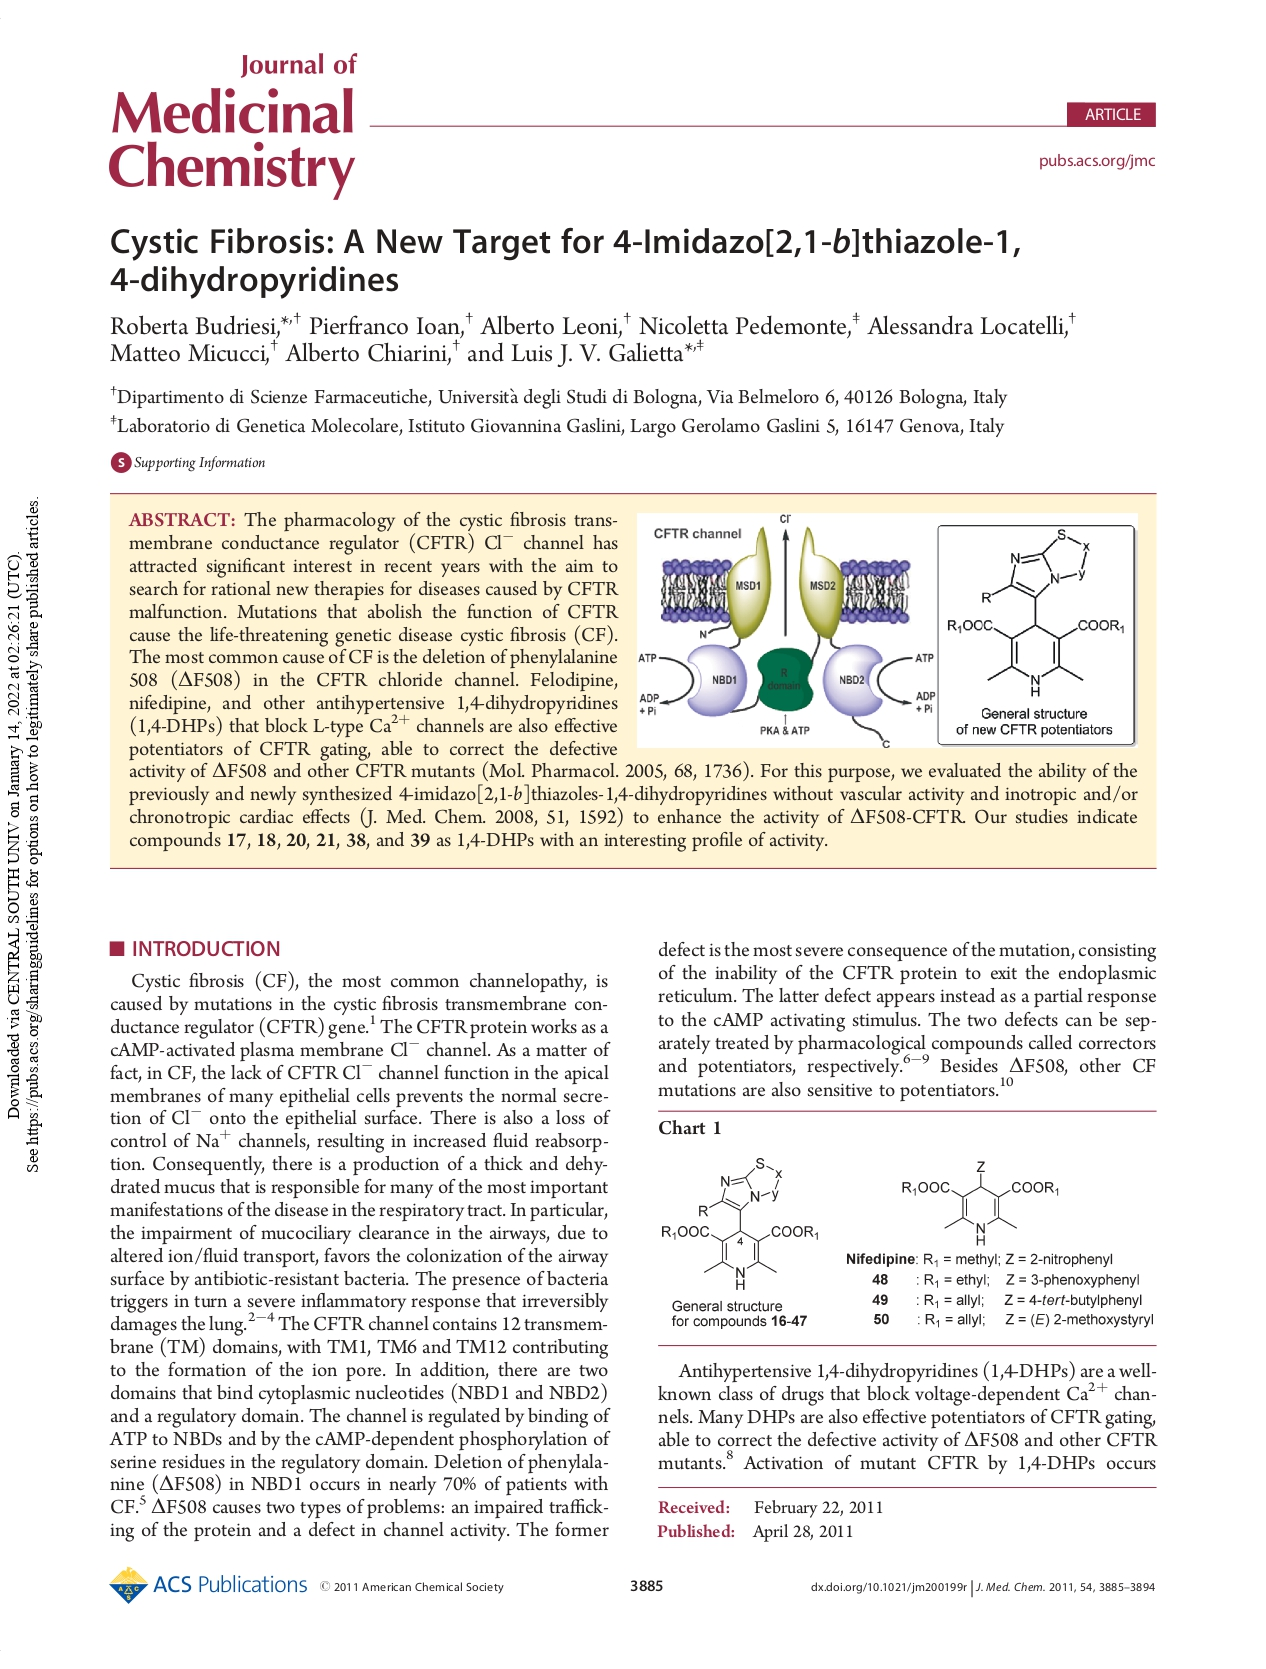exist_molecular: (946, 528, 1124, 700), (657, 1154, 822, 1291), (898, 1156, 1063, 1249)
